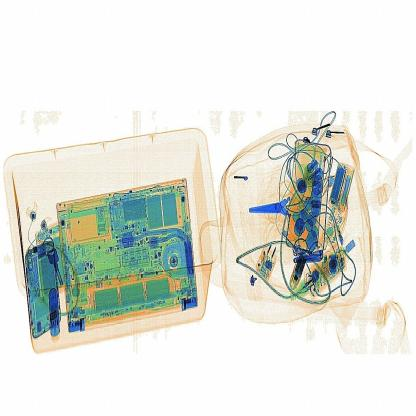gun: (248, 180, 313, 228)
